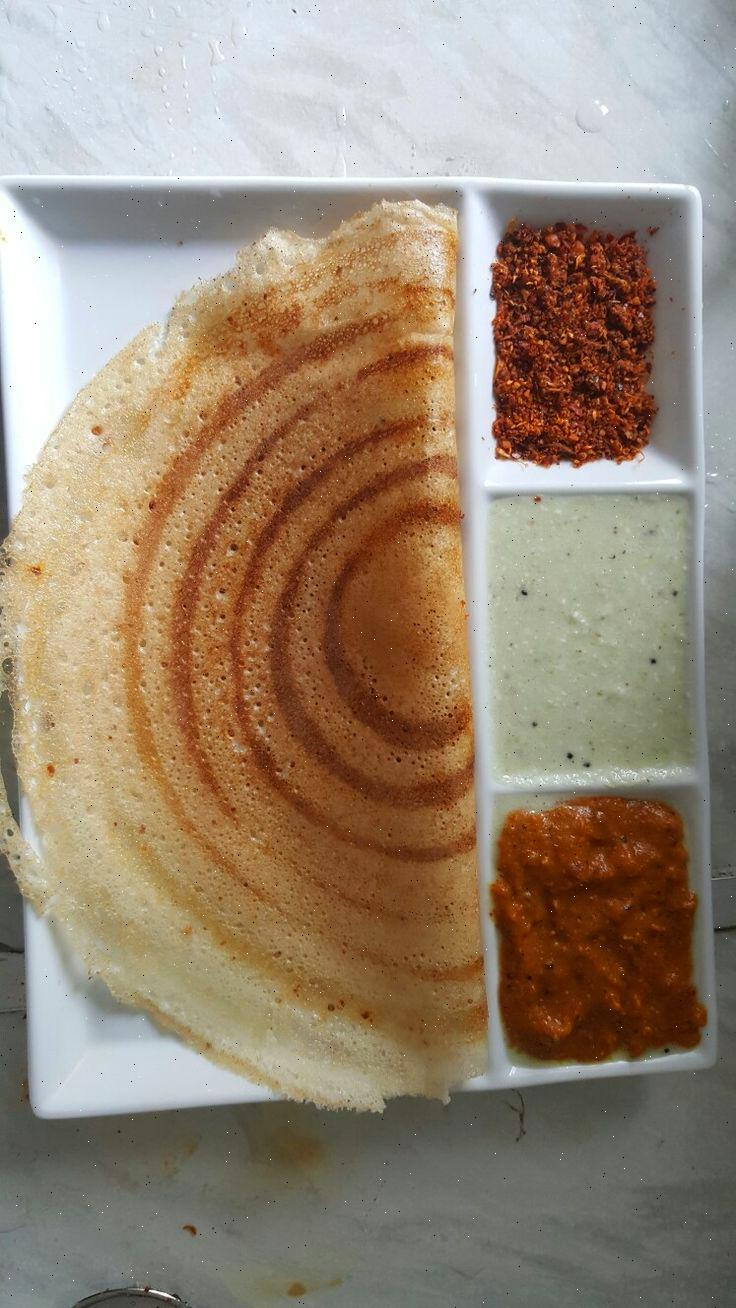dosa: (0, 204, 506, 1102)
